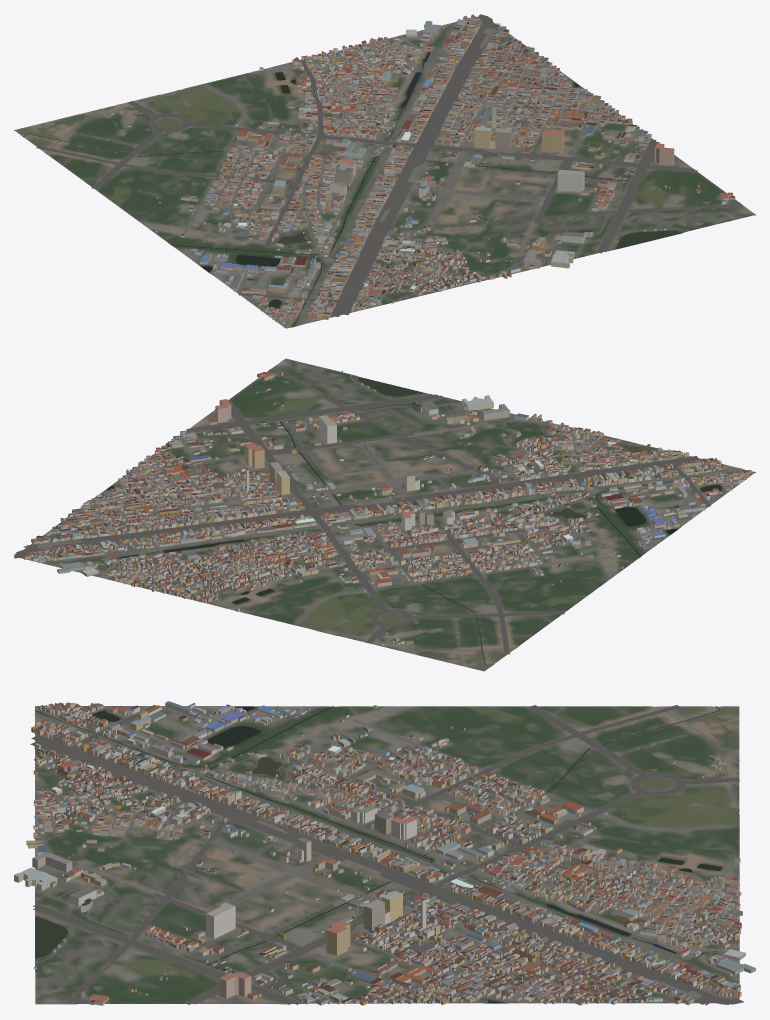
3 views of the same model, one above another, from view 1: azimuth 30°, elevation 25°; view 2: azimuth 150°, elevation 25°; view 3: azimuth 270°, elevation 25° (orthographic). The views are drawn at different scales.
Visible parts, largest first — view 1: ground, buildings, roads, water; view 2: ground, buildings, roads, water; view 3: ground, buildings, roads, water.
Part boxes in pixels (x1,y1,x2,y2): ground: (14, 16, 755, 328); buildings: (106, 14, 735, 327); roads: (36, 14, 740, 324); water: (23, 41, 681, 326); ground: (19, 358, 755, 671); buildings: (24, 370, 752, 645); roads: (14, 369, 744, 654); water: (102, 377, 747, 664); ground: (35, 706, 739, 1004); buildings: (14, 701, 755, 1005); roads: (30, 705, 743, 1005); water: (35, 706, 739, 1003).
Bounding box in the file's own units: 1416 × 79.55 × 1476.
